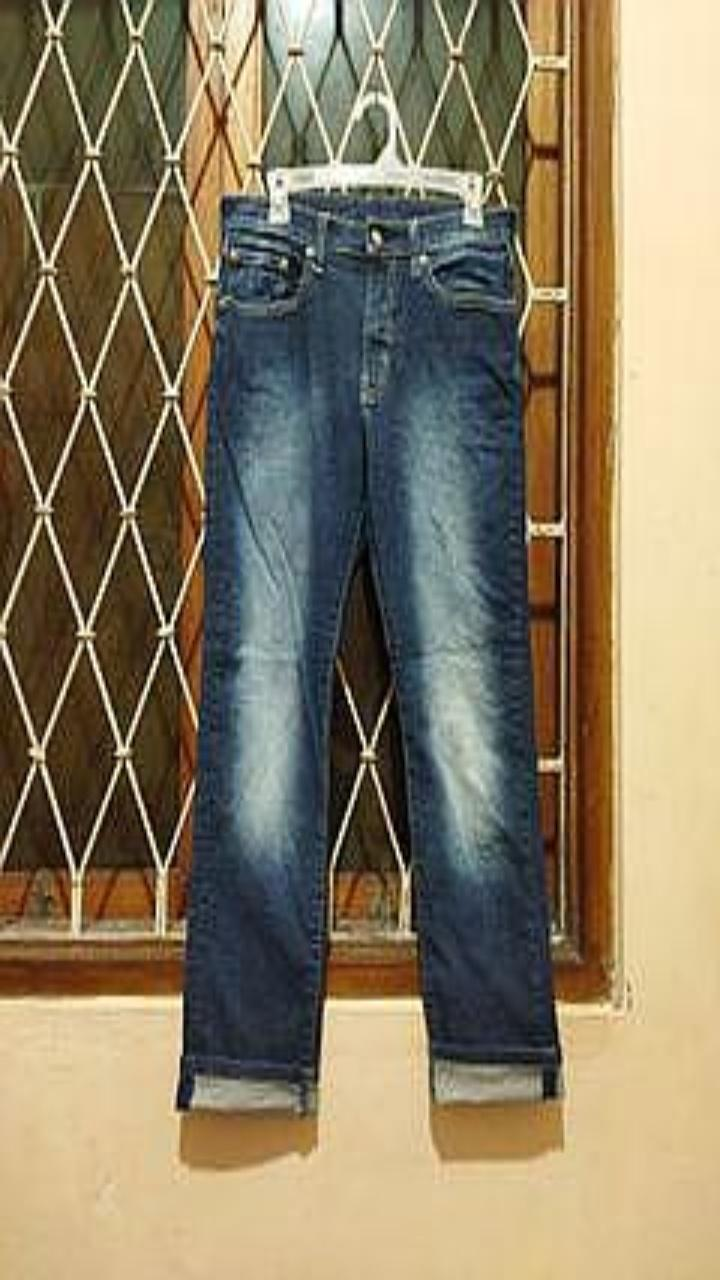Jeans: (176, 192, 562, 1112)
